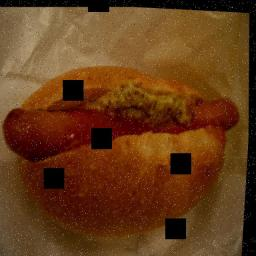hotdog: (0, 53, 248, 256)
